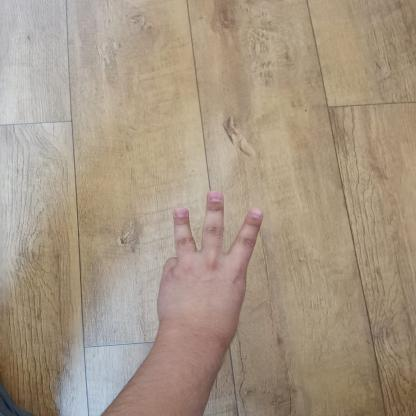W: (154, 186, 270, 343)
